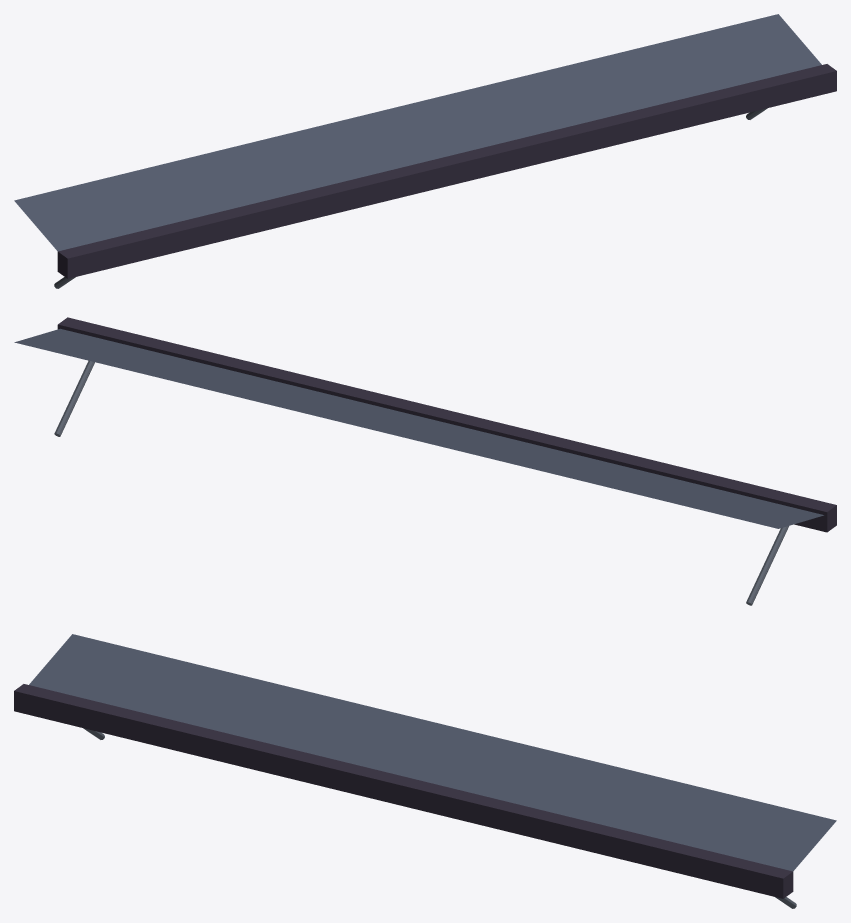
Rendered from SM_Ramen_Canopy.fbx.
3 views of the same model, one above another, from view 1: azimuth 30°, elevation 25°; view 2: azimuth 150°, elevation 25°; view 3: azimuth 330°, elevation 25° (orthographic).
Visible parts, largest first — view 1: SM_Ramen_Canopy; view 2: SM_Ramen_Canopy; view 3: SM_Ramen_Canopy.
Boxes of the visible parts, x1=… form: SM_Ramen_Canopy: x1=14, y1=14, x2=836, y2=288; SM_Ramen_Canopy: x1=14, y1=317, x2=836, y2=605; SM_Ramen_Canopy: x1=14, y1=634, x2=836, y2=908.
Size of the model in its own units: 6.34 by 0.8 by 0.7198.
